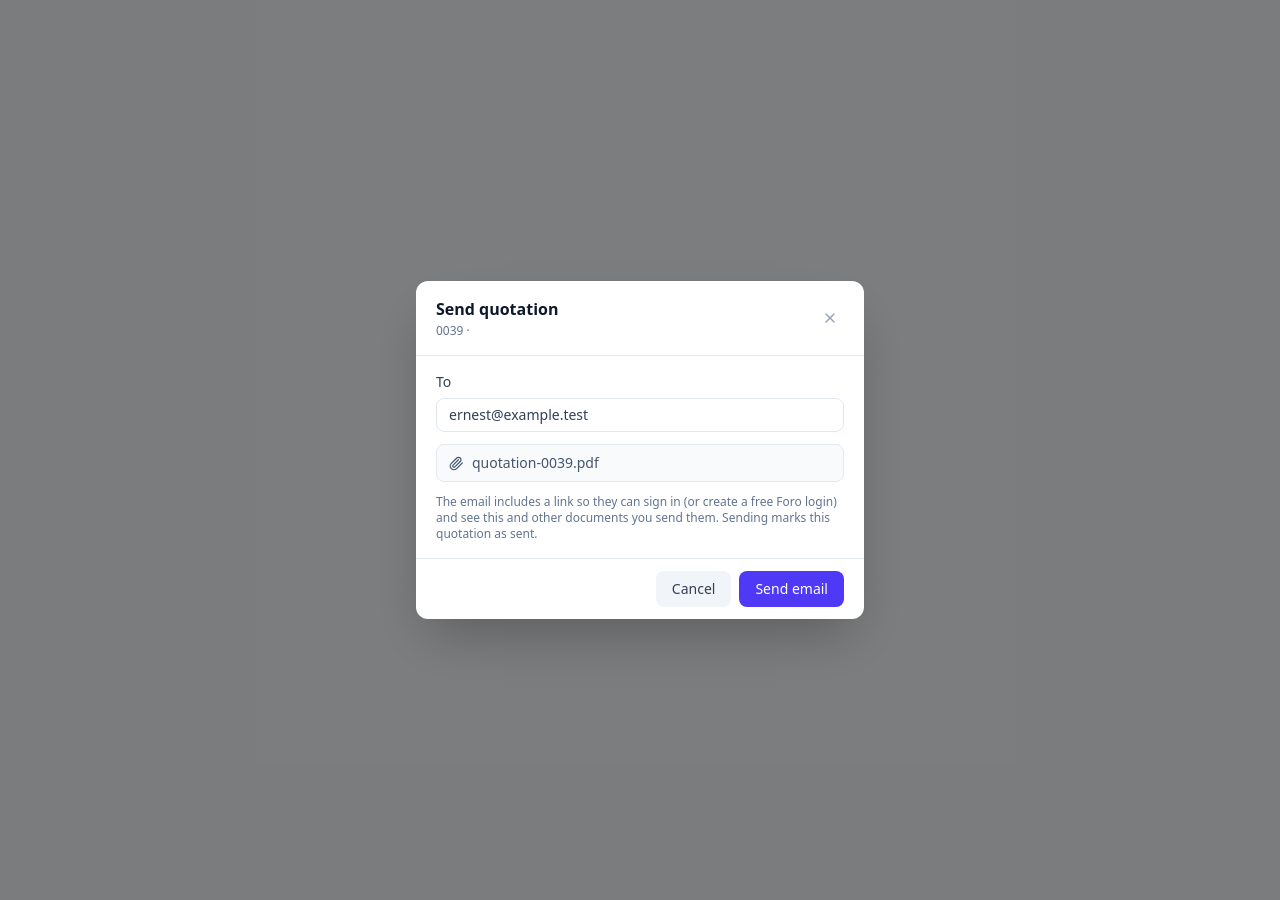
Test: SendQuotationEmailModal › rejects an invalid address without sending
Replace the text in the field labelled "To" with "not-an-email". click: (640, 415)
box: [436,398,844,432]
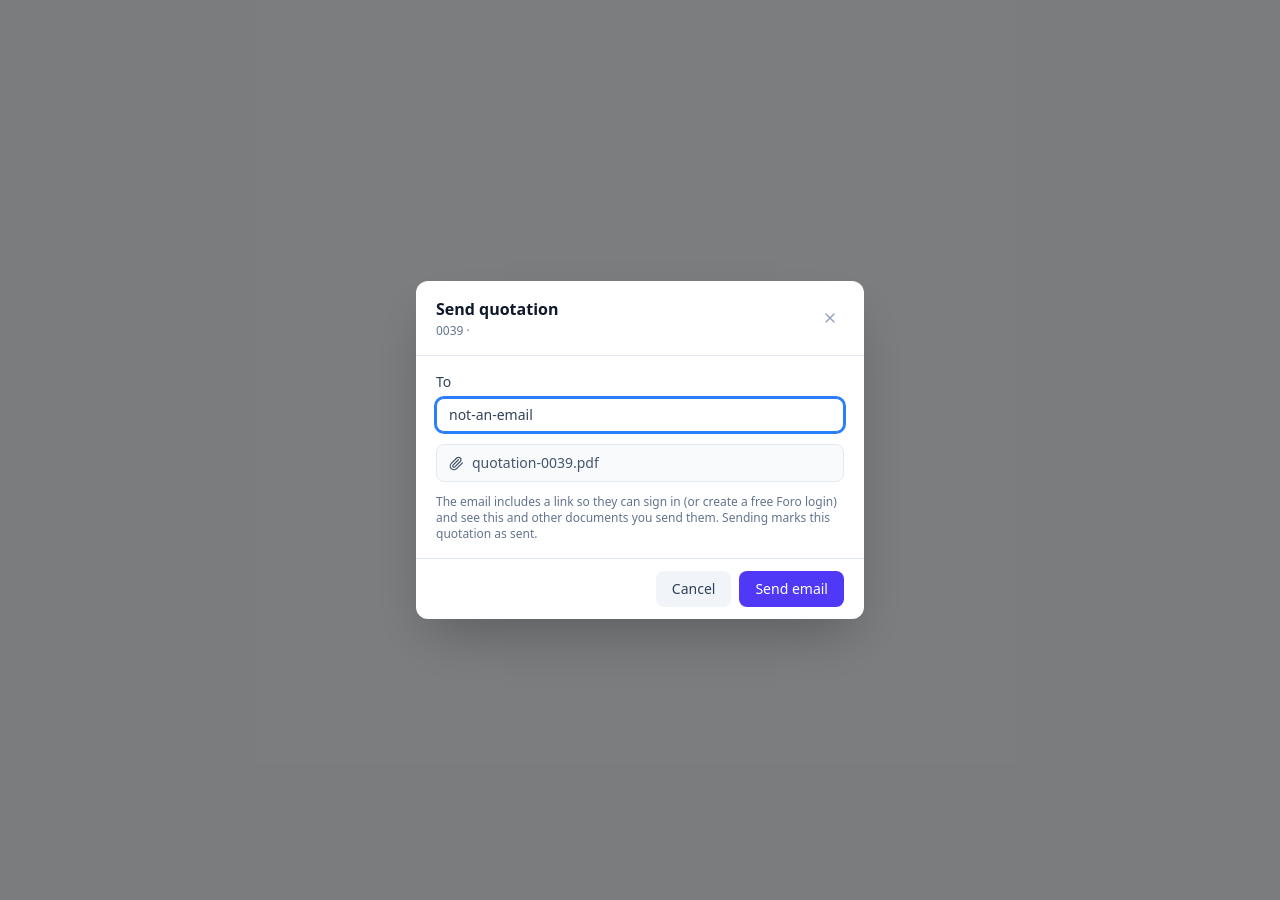
Click the button "Send email". click: (792, 589)
box: [739,571,844,607]
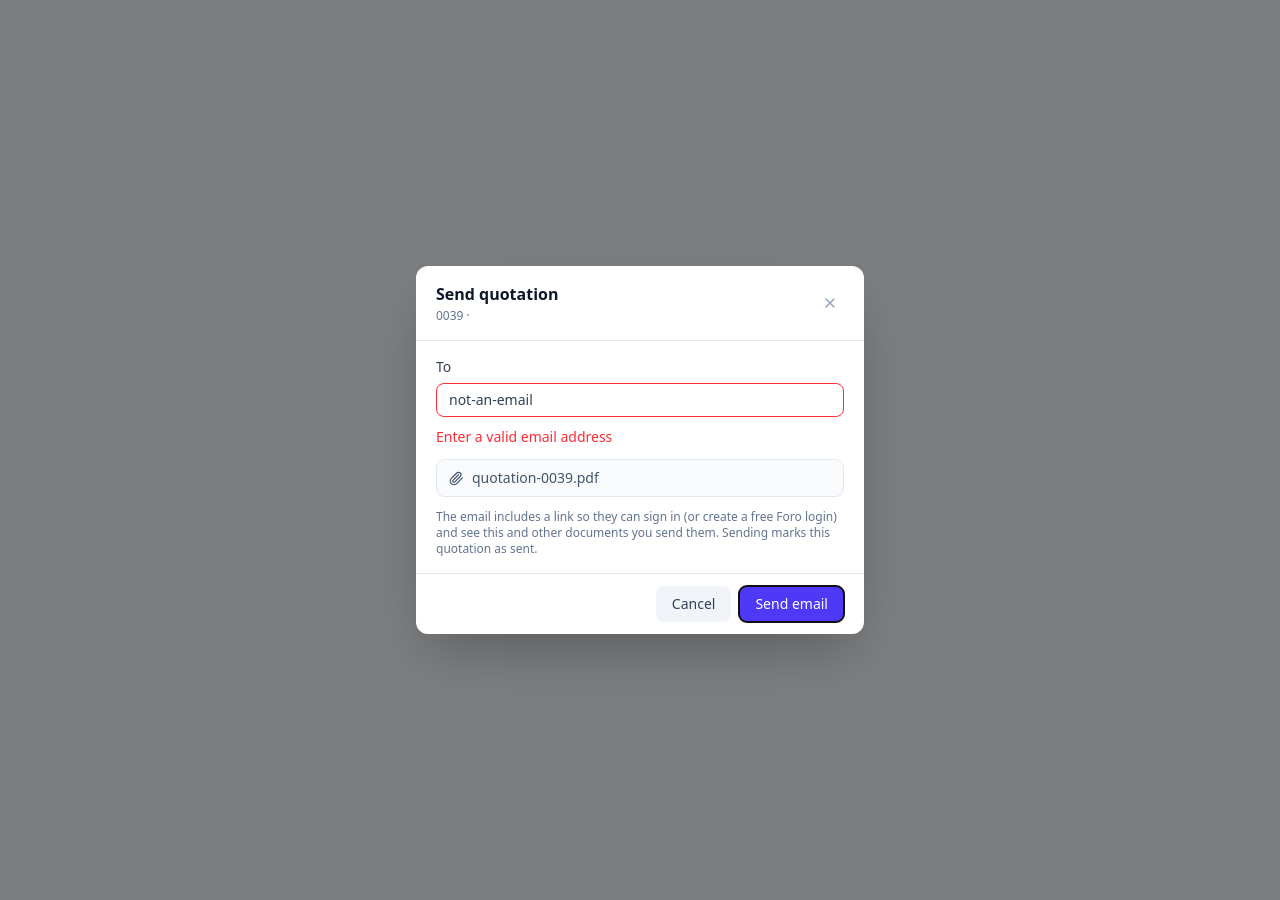
Check: the text "Enter a valid email address" is shown, box [436,427,612,446]
